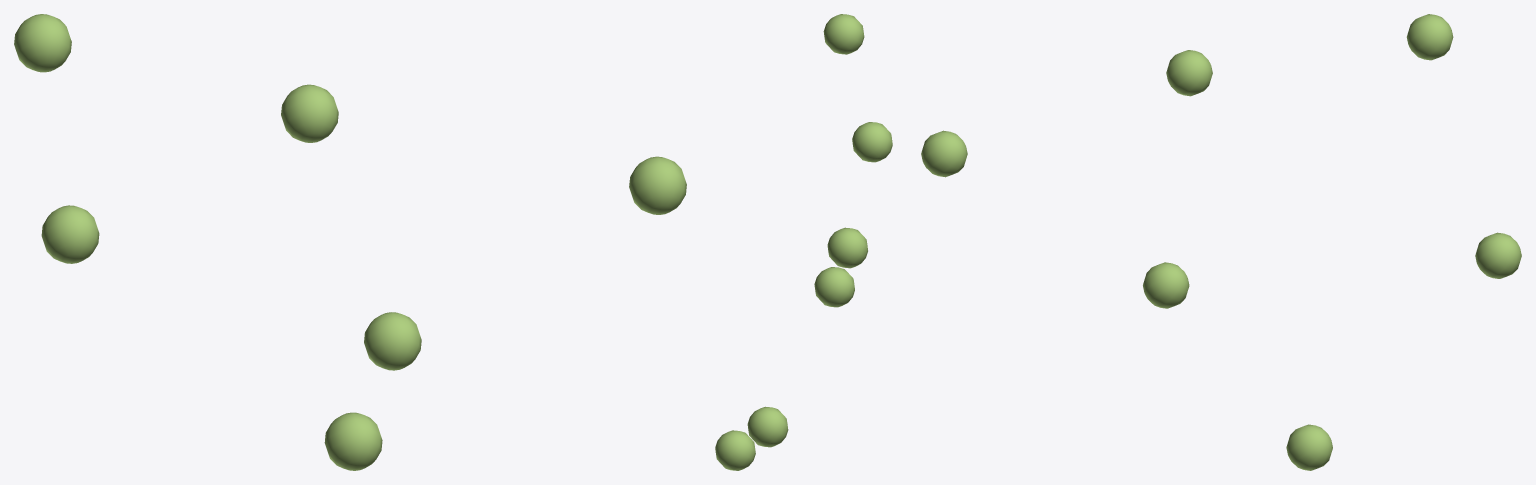
The model's file is lateral-vesical-nodes-r.glb.
3 views of the same model, side by side, from view 1: azimuth 30°, elevation 25°; view 2: azimuth 150°, elevation 25°; view 3: azimuth 270°, elevation 25° (orthographic). The views are drawn at different scales.
Visible parts, largest first — view 1: Lateral vesical nodes.r; view 2: Lateral vesical nodes.r; view 3: Lateral vesical nodes.r.
Part boxes in pixels (left/top/right/bottom): Lateral vesical nodes.r: left=14, top=14, right=686, bottom=470; Lateral vesical nodes.r: left=715, top=14, right=892, bottom=470; Lateral vesical nodes.r: left=921, top=14, right=1521, bottom=470.
Bounding box in the file's own units: 0.0184 × 0.0228 × 0.0335.
